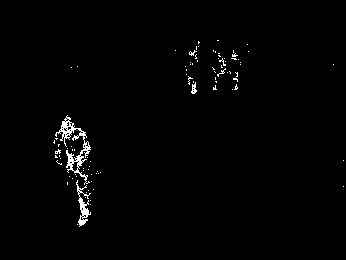person: (51, 116, 93, 228)
